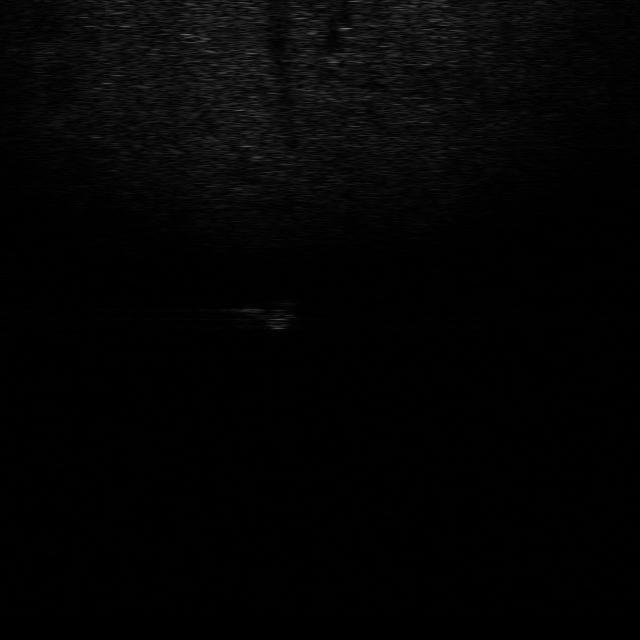human body: (226, 297, 300, 333)
